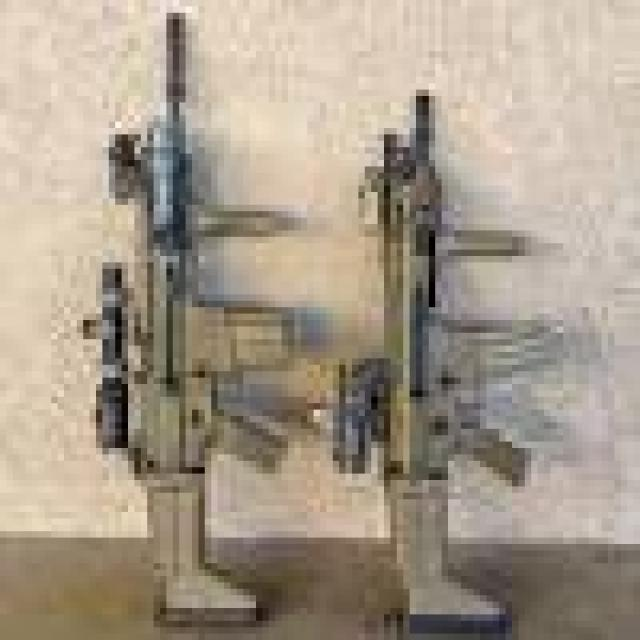Gun: (59, 16, 318, 640), (326, 72, 546, 629)
